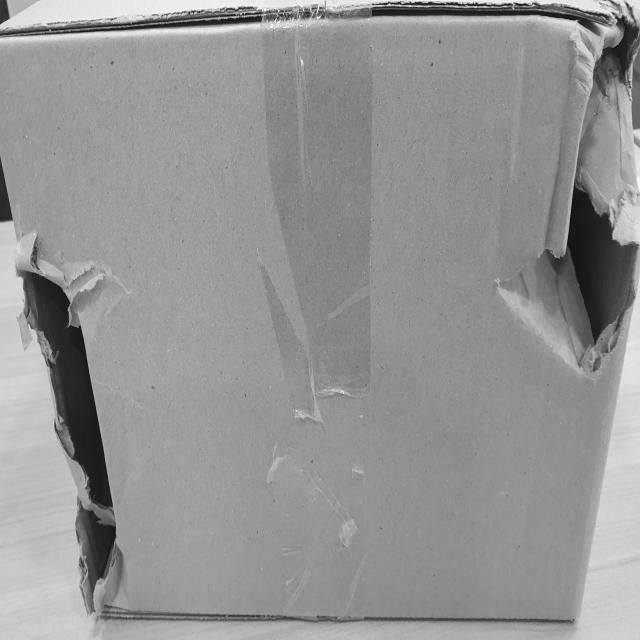hole: (490, 5, 640, 371), (21, 253, 123, 616)
